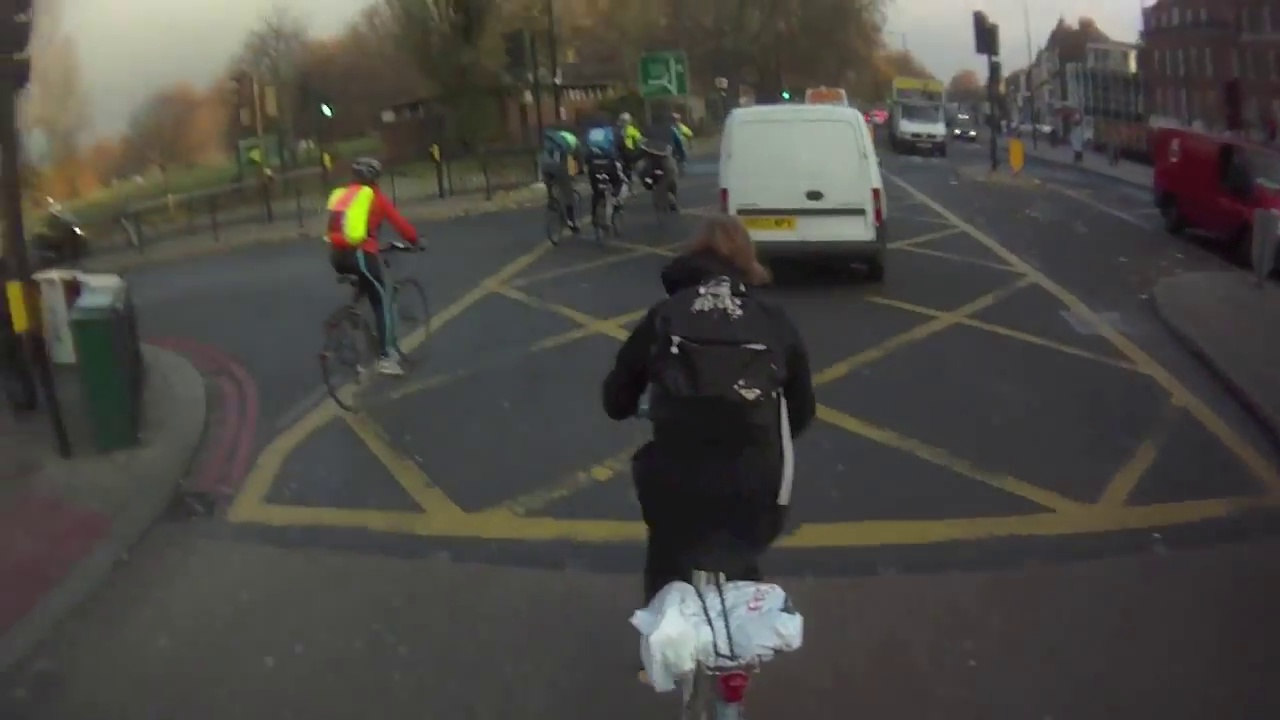cyclist_back: (602, 214, 824, 705), (318, 152, 435, 417), (637, 97, 697, 244), (536, 111, 588, 251), (576, 109, 628, 249)
